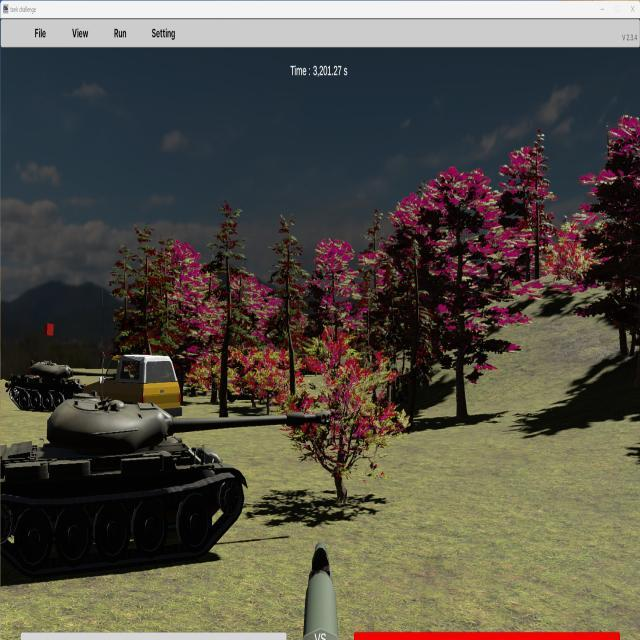Tank: (0, 395, 332, 575), (5, 358, 114, 413)
car: (76, 353, 183, 430)
